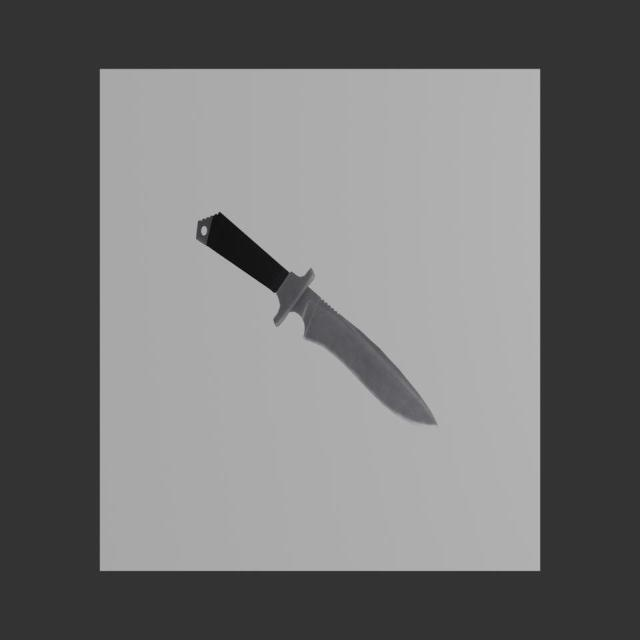knife: (196, 212, 289, 293)
